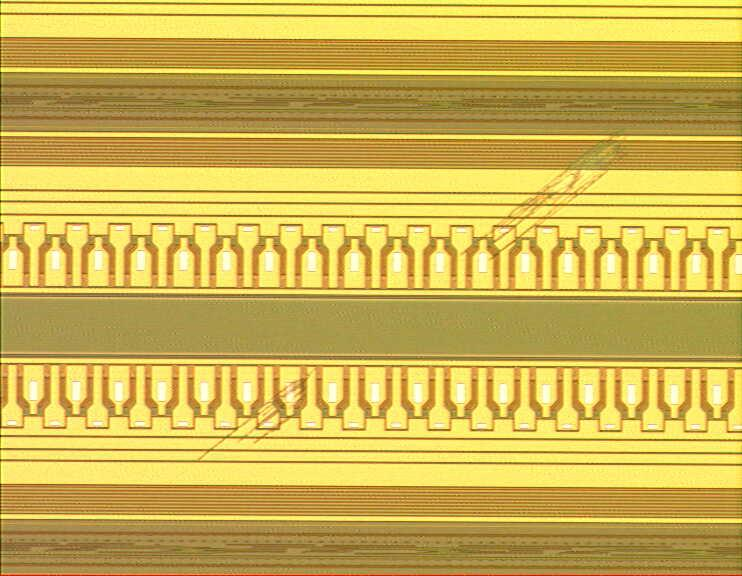SCRATCH: (198, 127, 636, 466)
